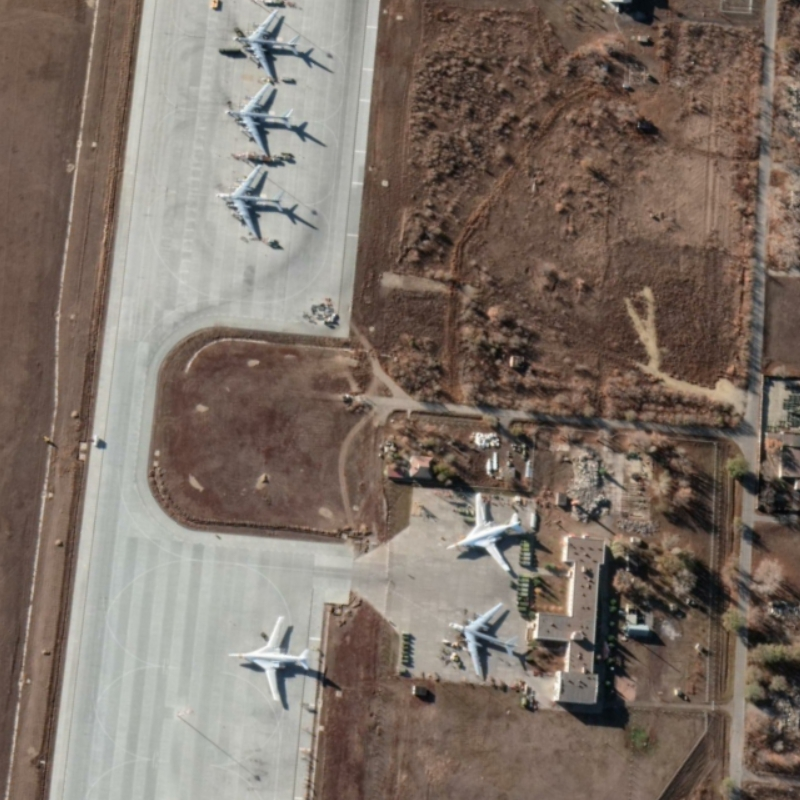A17: (439, 599, 521, 680), (210, 163, 288, 245), (224, 78, 299, 158), (229, 6, 306, 83)
A6: (224, 612, 313, 704), (445, 489, 528, 578)
